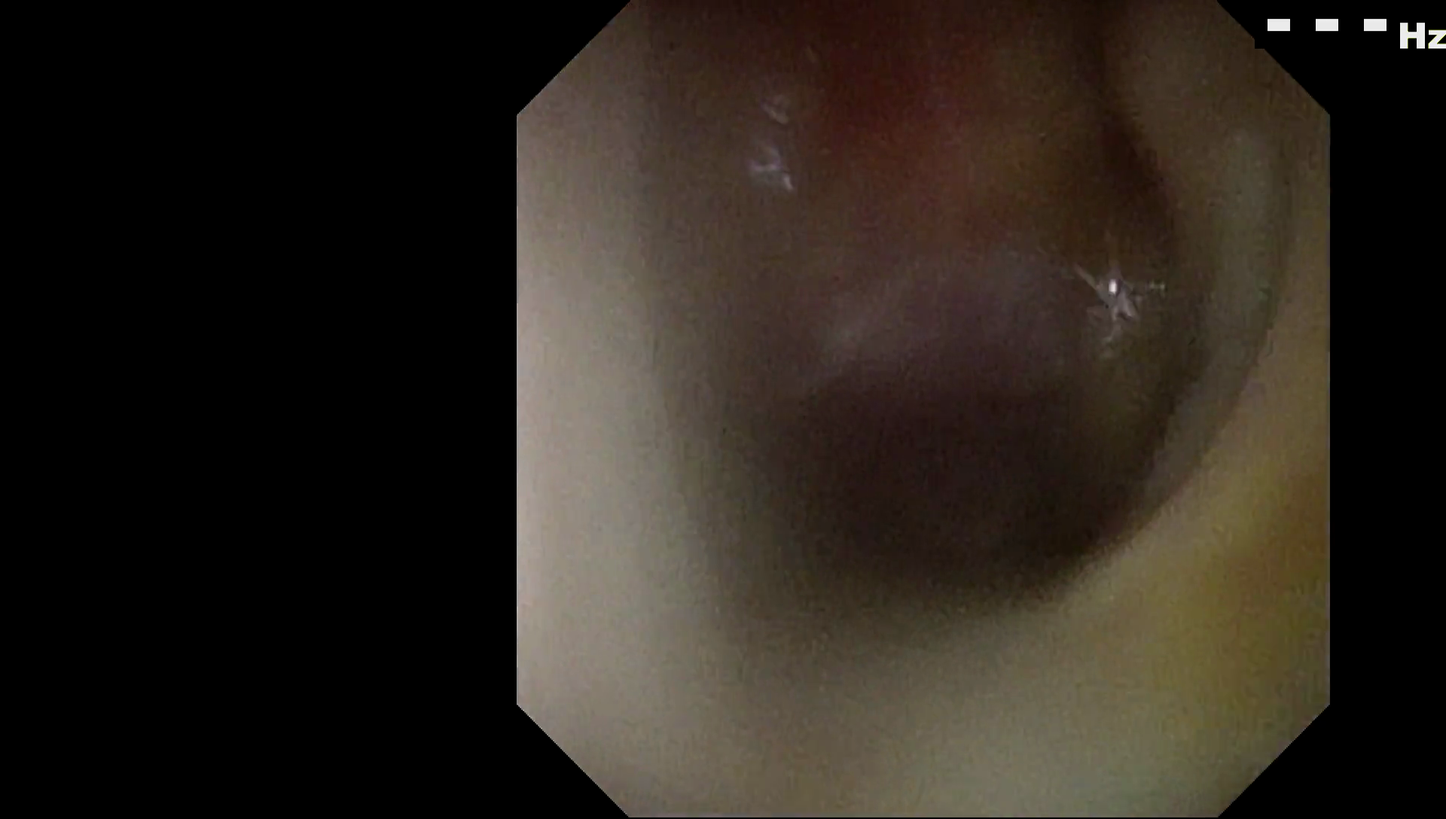close_wall: (520, 114, 785, 698)
next: (794, 364, 1151, 604)
